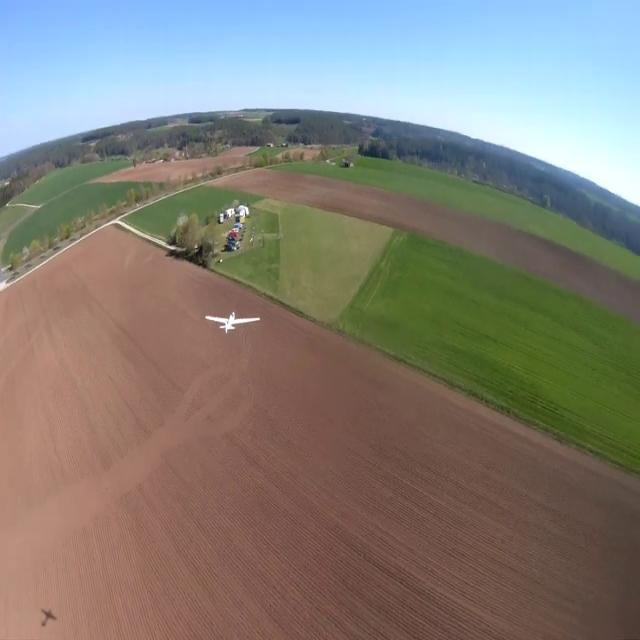iha: (205, 309, 261, 330)
